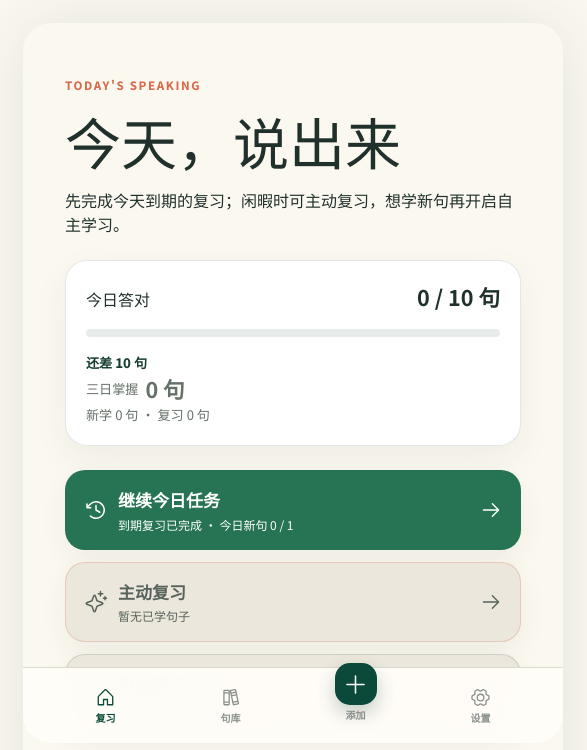
Test case: PhraseBankApp › does not reopen an empty review group for retired or locked due phrases
Click the button "继续今日任务 到期复习已完成 · 今日新句 0 / 1" at (169, 500), box left=65, top=470, right=521, bottom=550
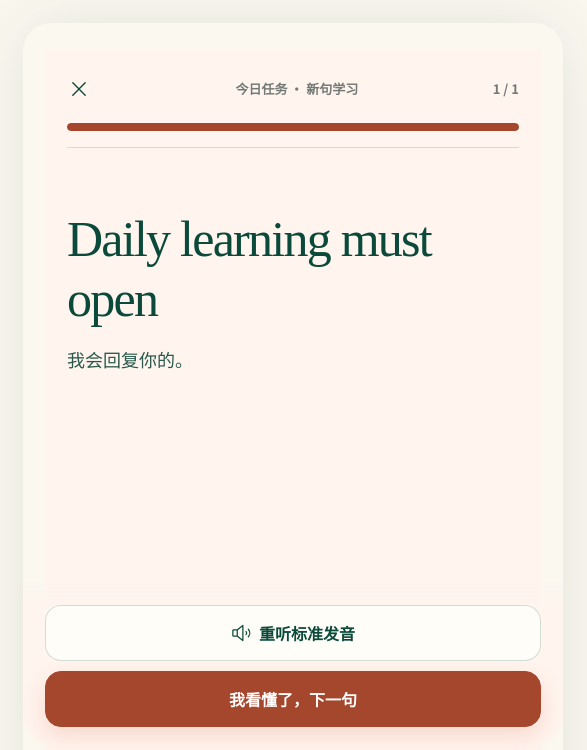
Expected: the text "今日任务 · 新句学习" is shown, left=235, top=79, right=358, bottom=99
Expected: the heading "Daily learning must open" is shown, left=67, top=211, right=431, bottom=327
